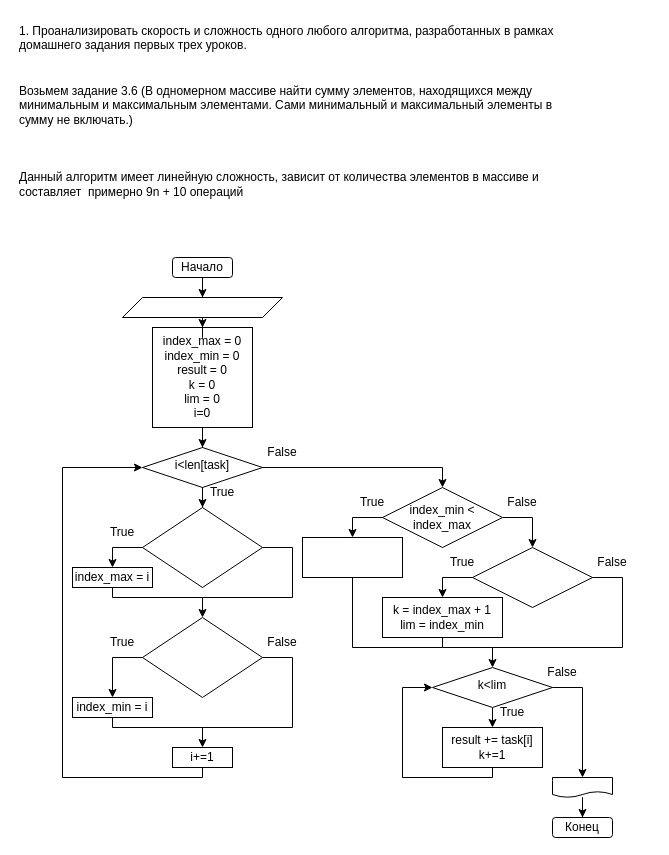
The diagram is 669 pixels wide and 855 high, and some of its shapes have lost their labels. Here are the shapes that lost their labels. From the top down, the box of each, then its label:
(122, 296, 282, 318): task = [массив чисел]
(142, 506, 262, 588): task[index_max] < task[i]
(302, 536, 402, 578): k = index_min + 1 lim = index_max
(472, 546, 592, 608): index_max < index_min
(142, 616, 262, 698): task[index_min] > task[i]
(552, 776, 612, 798): result
